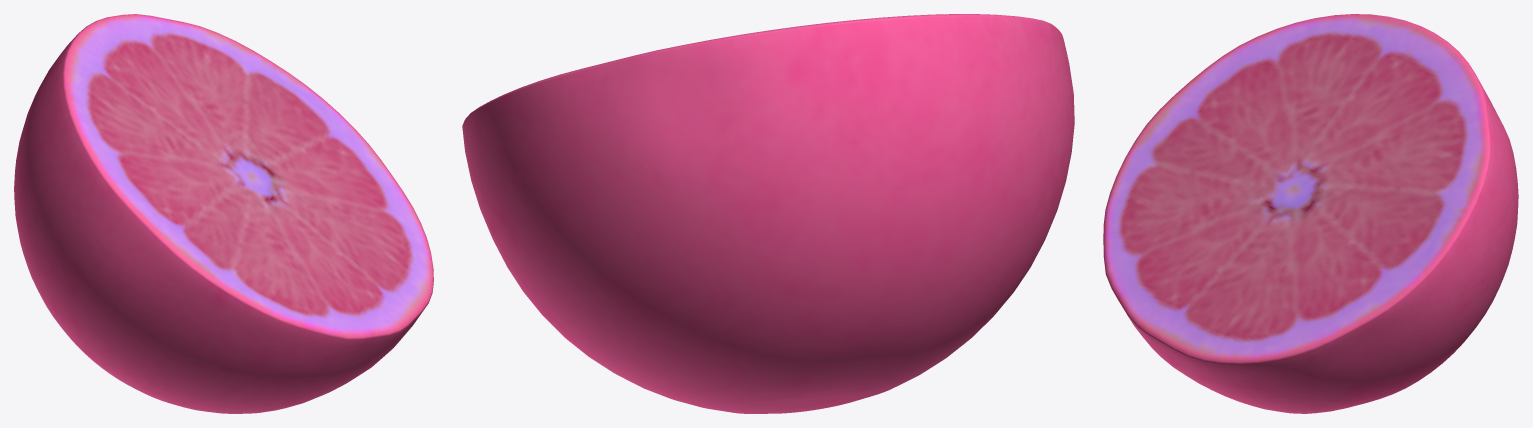
The picture shows the model from 3 angles, left to right: view 1: azimuth 30°, elevation 25°; view 2: azimuth 150°, elevation 25°; view 3: azimuth 270°, elevation 25°; orthographic projection. The views are drawn at different scales.
Bounding box in the file's own units: 7.54 × 6.4 × 7.54.
Materials: 1 (1 with a texture image).
